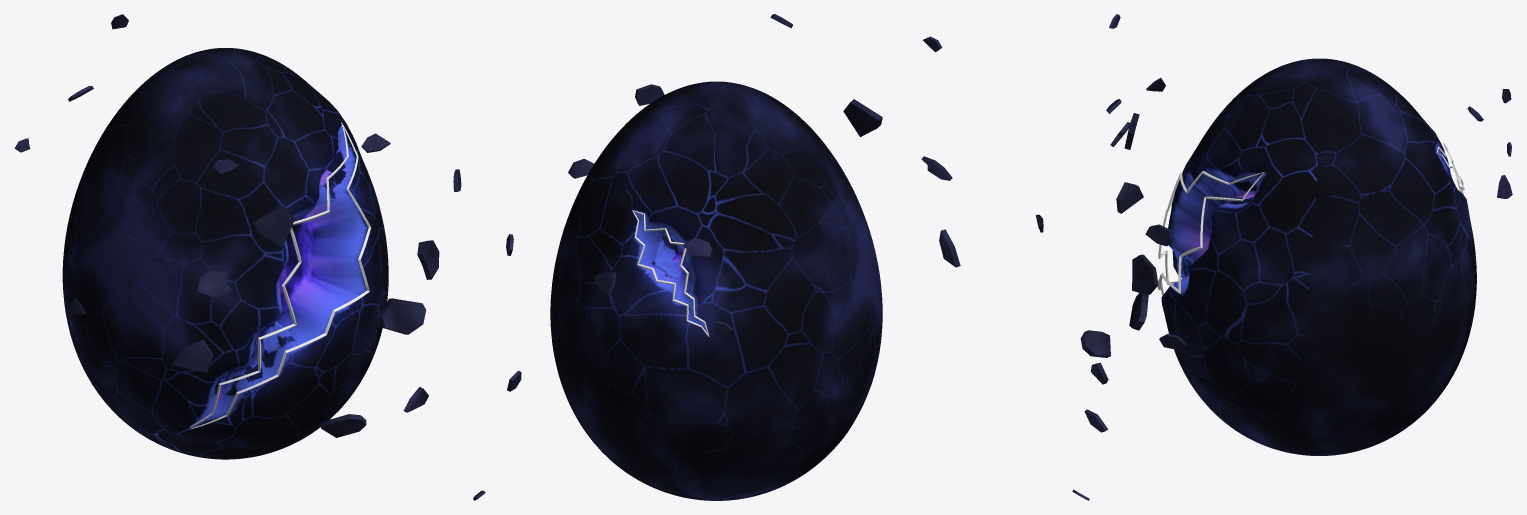
The model's file is VoidRiftEgg.fbx.
3 views of the same model, side by side, from view 1: azimuth 30°, elevation 25°; view 2: azimuth 150°, elevation 25°; view 3: azimuth 270°, elevation 25° (orthographic). The views are drawn at different scales.
Parts seen in each view (by area): view 1: VoidRiftEgg_Body, VoidRiftEgg_Glow_3c64ff; view 2: VoidRiftEgg_Body, VoidRiftEgg_Glow_3c64ff; view 3: VoidRiftEgg_Body, VoidRiftEgg_Glow_3c64ff.
Boxes of the visible parts, <box> form: VoidRiftEgg_Body: <box>14,14,521,500</box>; VoidRiftEgg_Glow_3c64ff: <box>189,122,370,429</box>; VoidRiftEgg_Body: <box>550,14,1043,500</box>; VoidRiftEgg_Glow_3c64ff: <box>632,210,709,336</box>; VoidRiftEgg_Body: <box>1072,14,1512,500</box>; VoidRiftEgg_Glow_3c64ff: <box>1157,142,1464,295</box>.
Size of the model in its own units: 3.31 by 2.7 by 2.88.
Materials: 2 (1 with a texture image).
